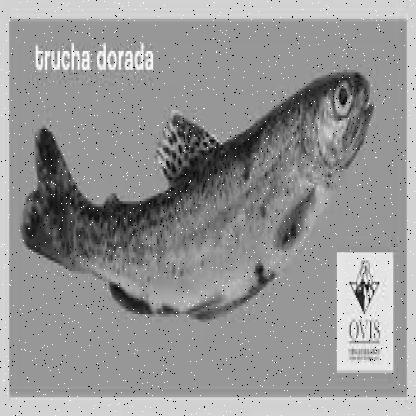fish: (20, 64, 372, 322)
